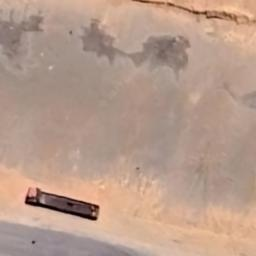truck: (24, 186, 101, 222)
